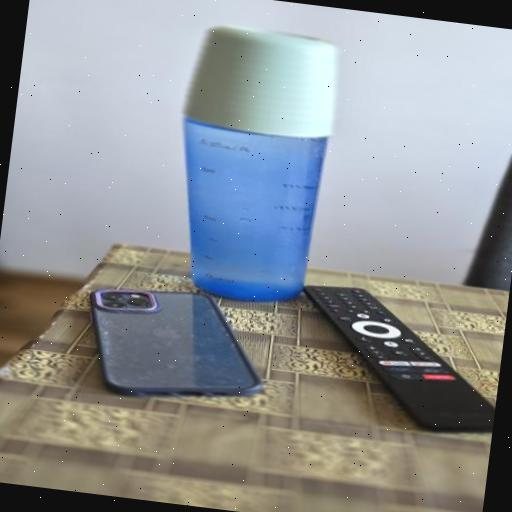phone: (76, 286, 270, 416)
